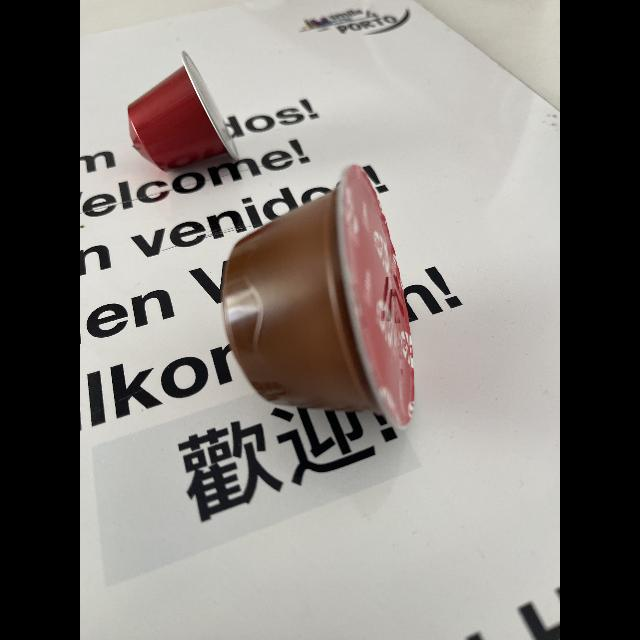intact_capsule: (212, 158, 428, 434), (115, 46, 253, 180)
